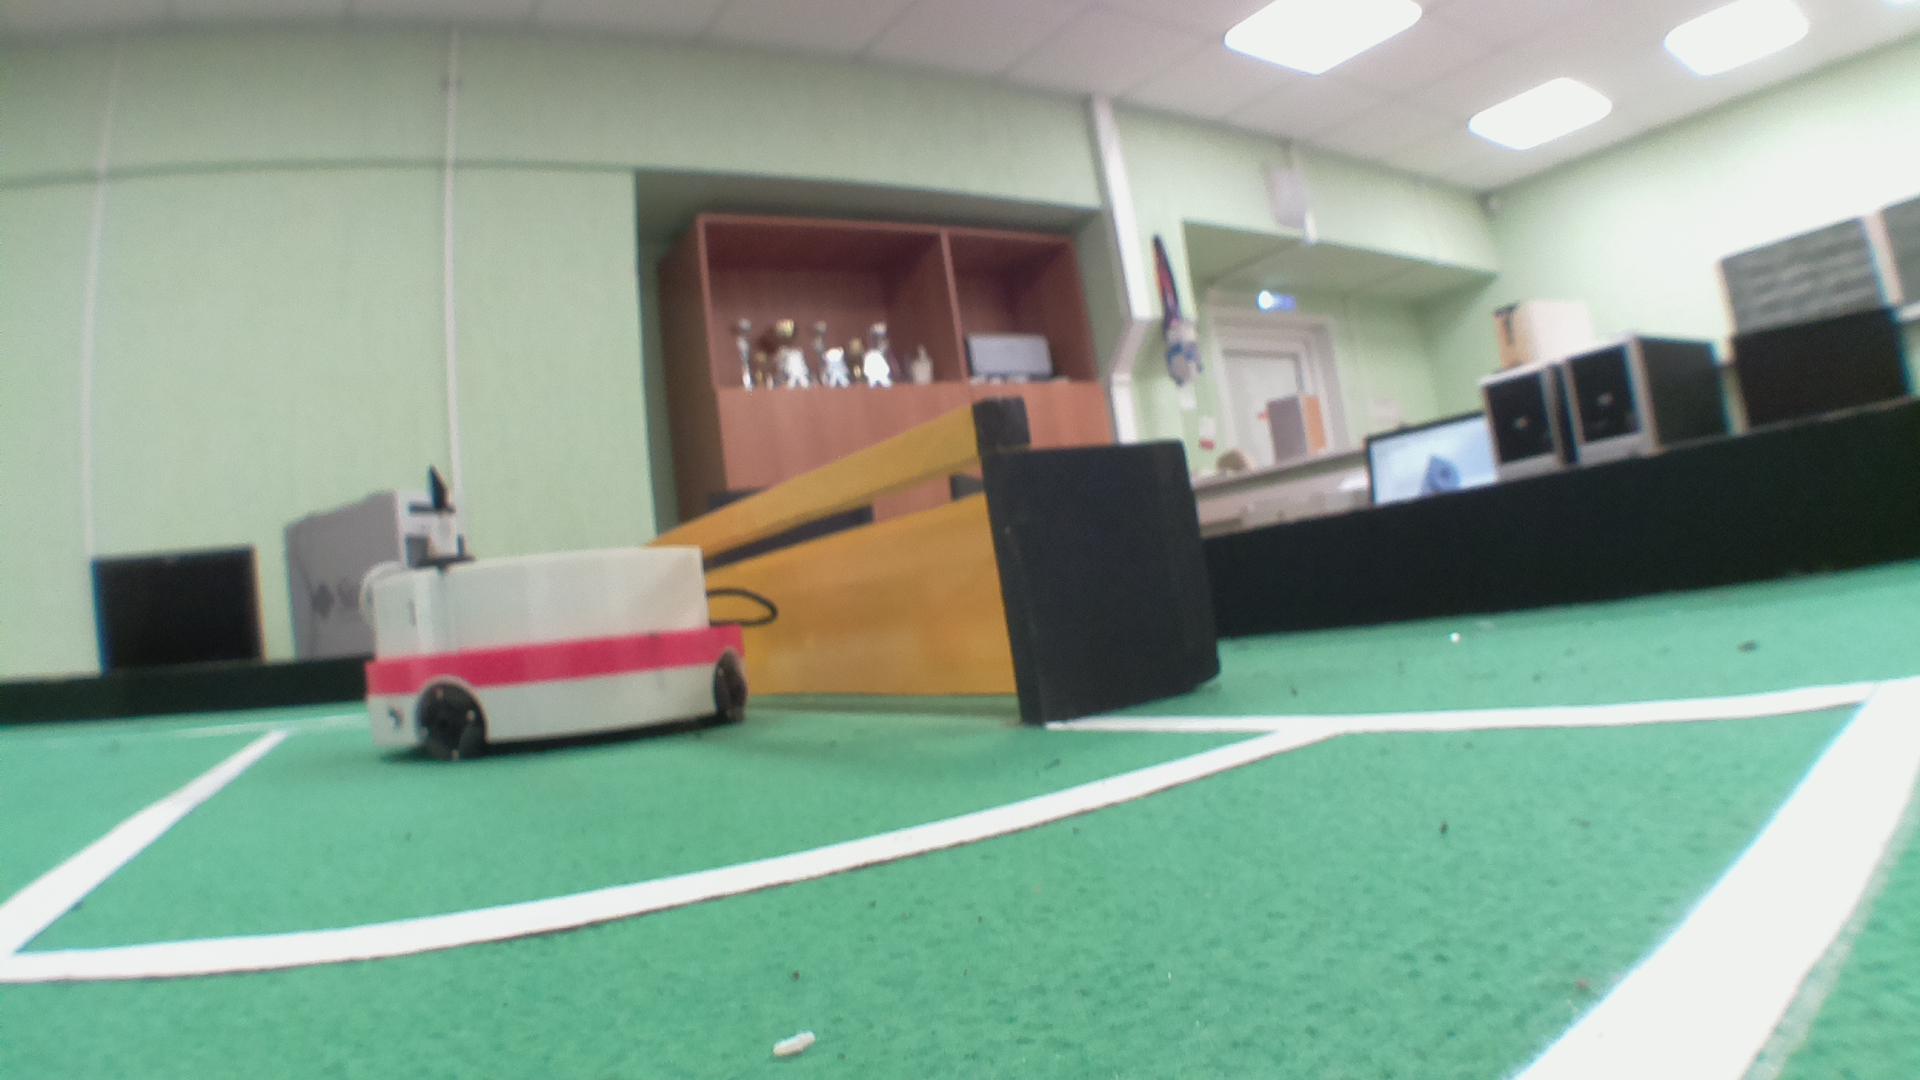YellowGoal: (680, 396, 1018, 695)
